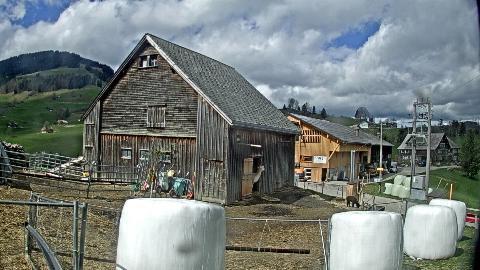car: (388, 165, 398, 173), (418, 161, 426, 167)
sheep: (251, 166, 265, 190), (346, 196, 360, 208)
